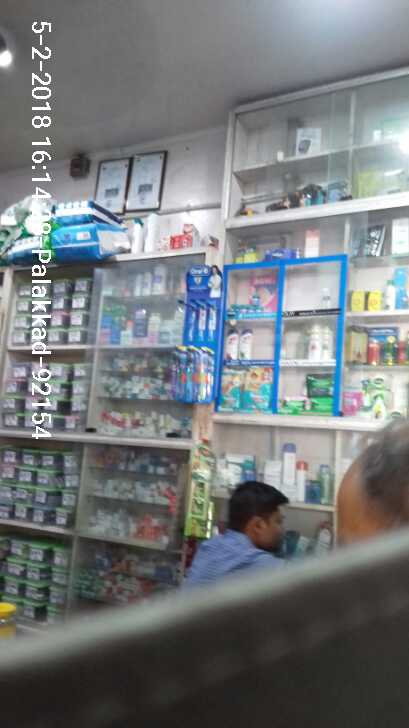beauty: (224, 327, 240, 363), (238, 328, 253, 360), (322, 325, 335, 360), (308, 324, 319, 362), (320, 284, 330, 312)
pharmacy: (240, 367, 275, 411), (220, 369, 242, 408), (195, 348, 208, 405), (306, 374, 334, 397), (306, 397, 334, 414), (280, 397, 305, 412), (250, 291, 260, 306)
